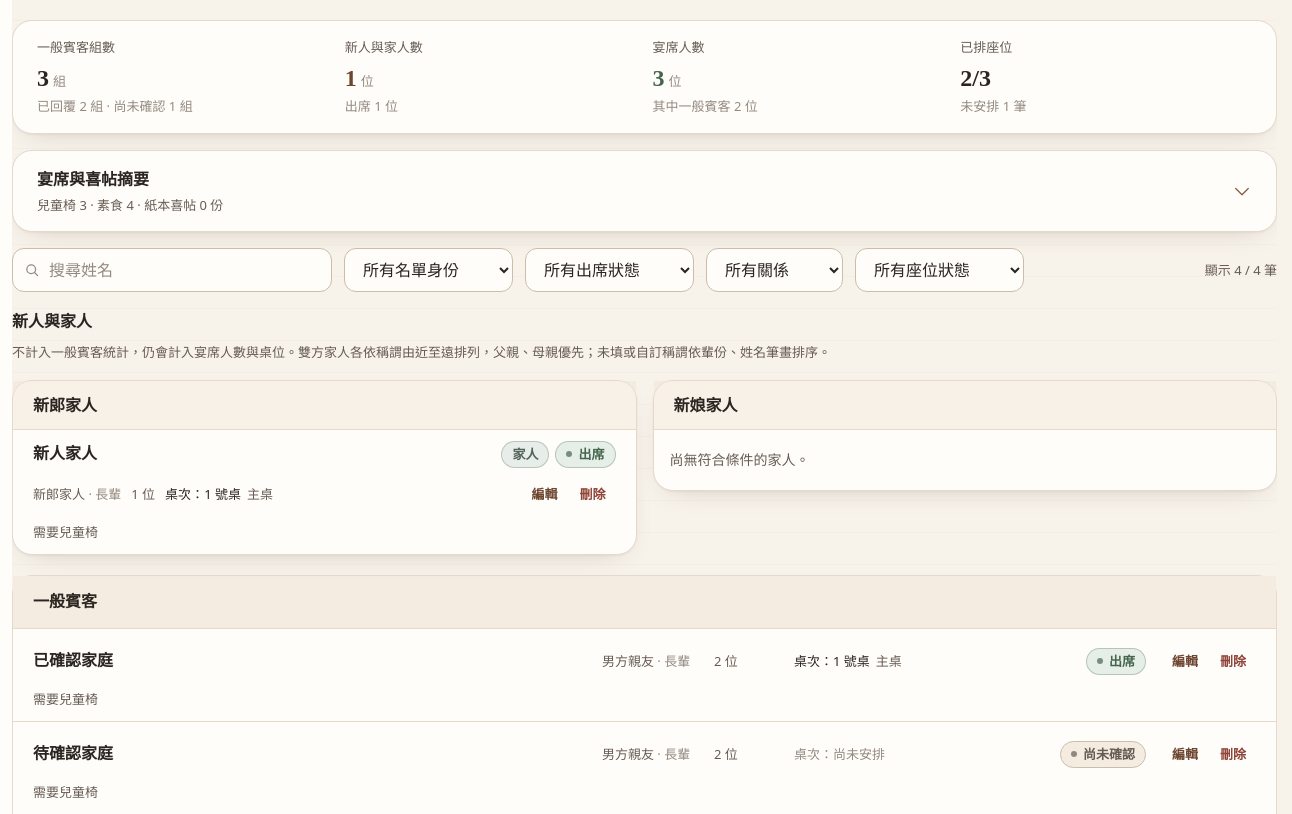
GuestList › summarises child-seat and vegetarian needs with the people who need them
The width and height of the screenshot is (1292, 814).
Click the button "宴席與喜帖摘要 兒童椅 3 · 素食 4 · 紙本喜帖 0 份" at (93, 179), box [13,151,1276,231]
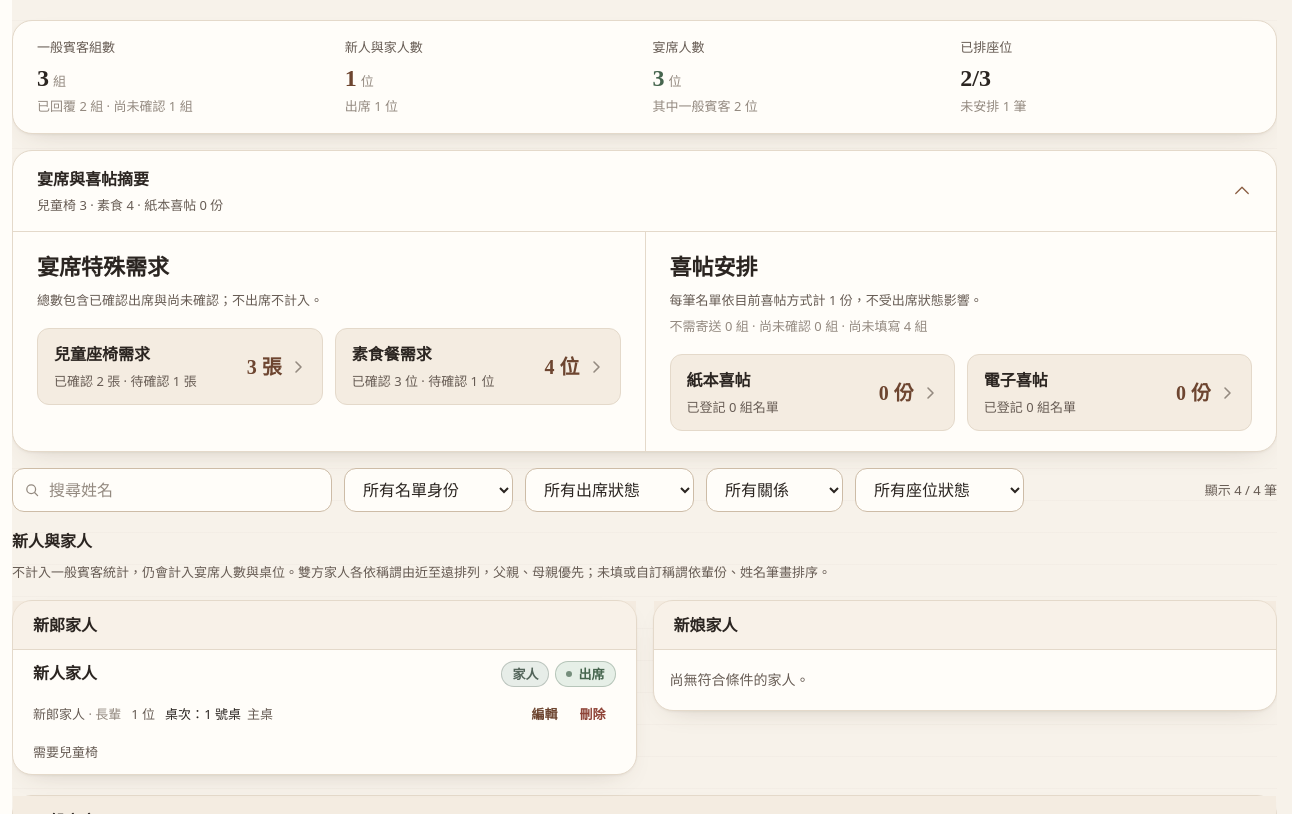
Expected: the button "宴席與喜帖摘要 兒童椅 3 · 素食 4 · 紙本喜帖 0 份" is expanded, [13,151,1276,231]
Expected: the text "總數包含已確認出席與尚未確認；不出席不計入。" is shown, [37,291,323,309]
Expected: the text "兒童座椅需求" is shown, [54,346,150,363]
